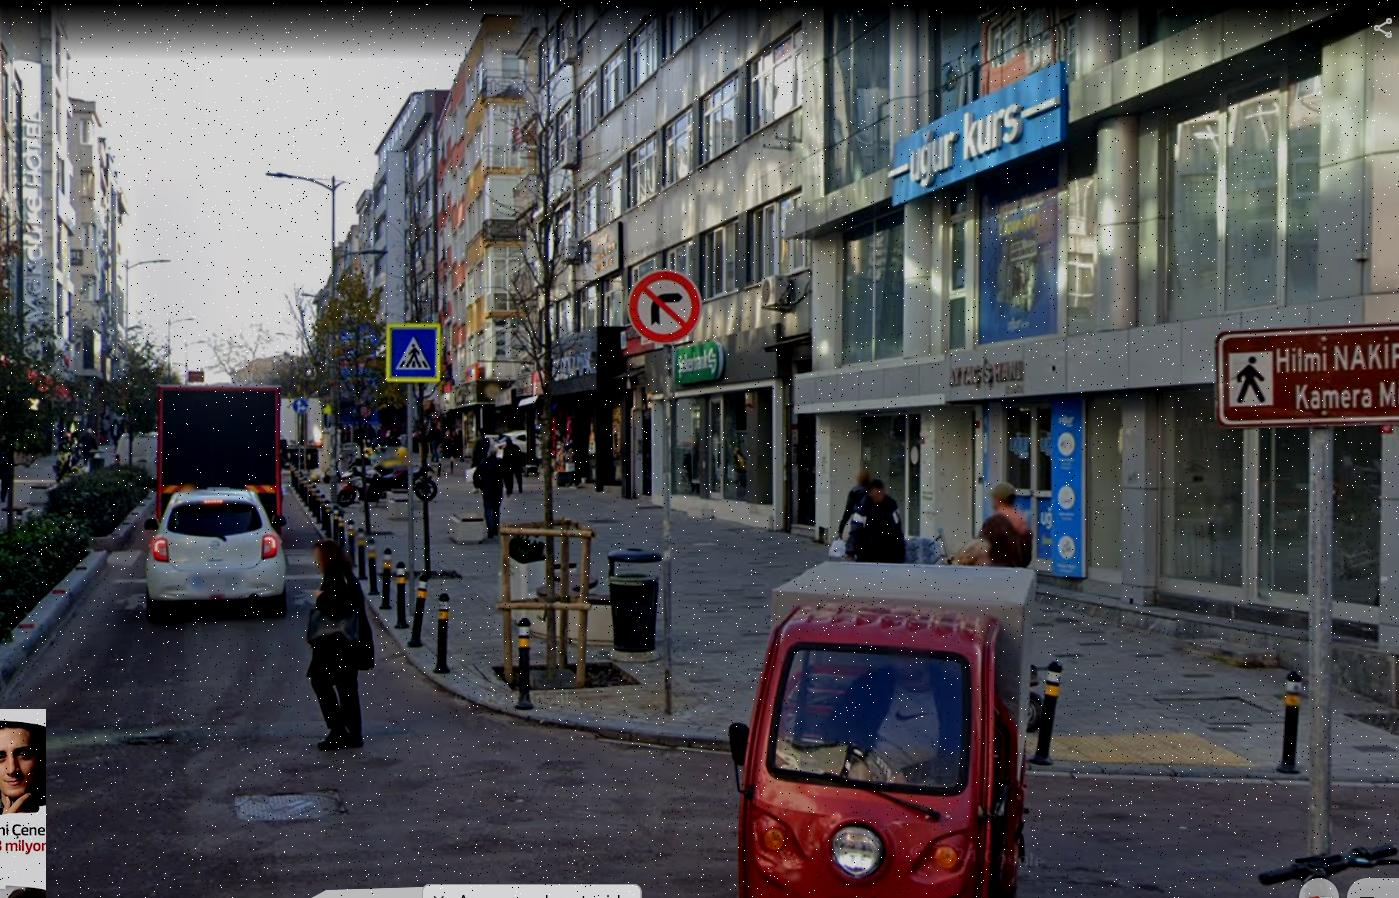rightturnsareforbidden: (625, 271, 699, 340)
